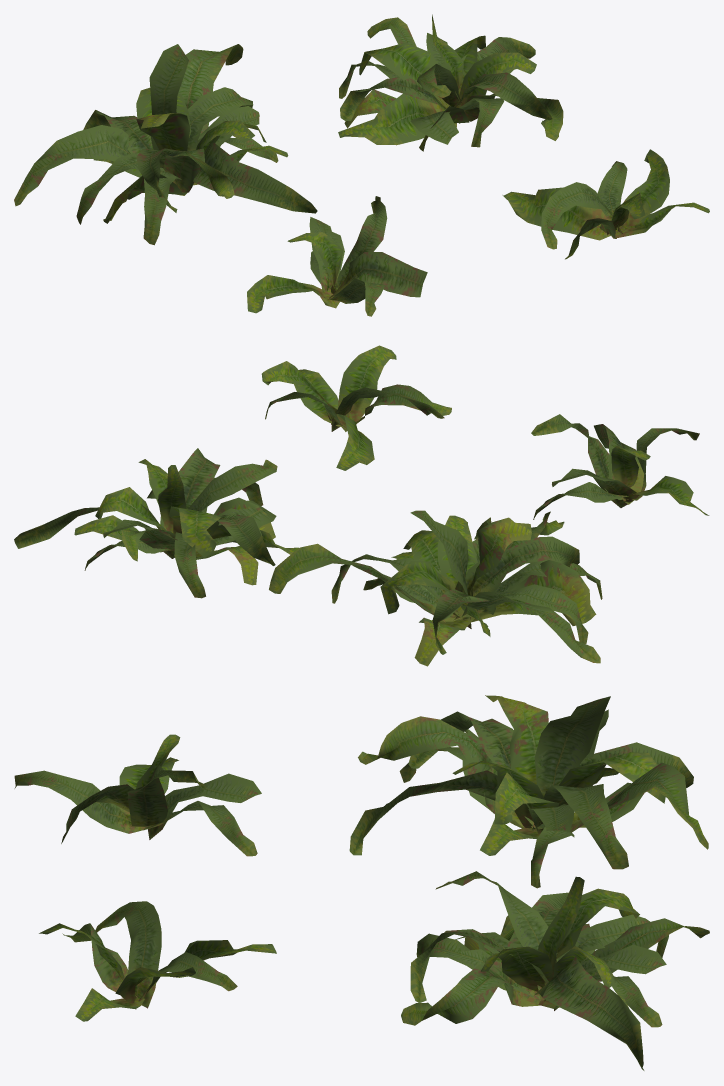
Rendered from fern.glb.
3 views of the same model, one above another, from view 1: azimuth 30°, elevation 25°; view 2: azimuth 150°, elevation 25°; view 3: azimuth 270°, elevation 25° (orthographic). The views are drawn at different scales.
Visible parts, largest first — view 1: fern_02_b; view 2: fern_02_b; view 3: fern_02_b.
Part boxes in pixels (x1,y1,x2,y2): fern_02_b: [14, 14, 709, 316]; fern_02_b: [14, 345, 709, 666]; fern_02_b: [14, 695, 709, 1070].
Size of the model in its own units: 1.97 by 0.4261 by 1.72.
1 material, 1 textured.
